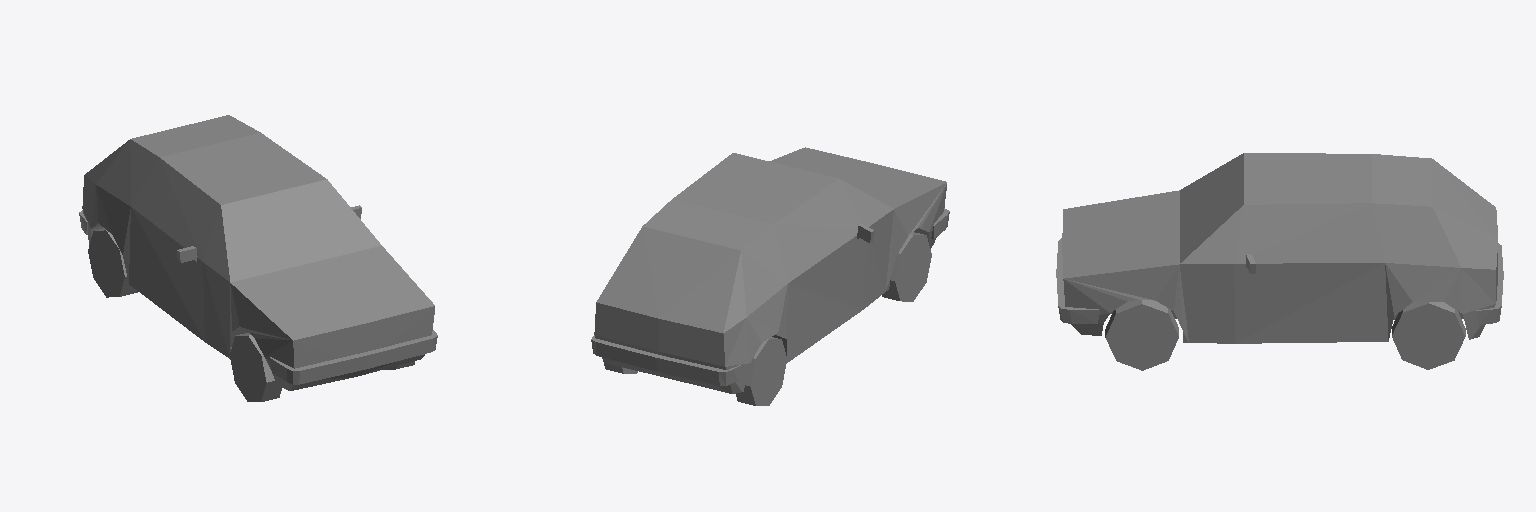
The model's file is Car3.obj.
3 views of the same model, side by side, from view 1: azimuth 30°, elevation 25°; view 2: azimuth 150°, elevation 25°; view 3: azimuth 270°, elevation 25° (orthographic).
Parts seen in each view (by area): view 1: Car3; view 2: Car3; view 3: Car3.
Boxes of the visible parts, box(x1,y1,x2,y2) form: Car3: box(79, 115, 437, 401); Car3: box(591, 147, 949, 405); Car3: box(1056, 153, 1503, 370).
Size of the model in its own units: 2.65 by 2.14 by 5.61.